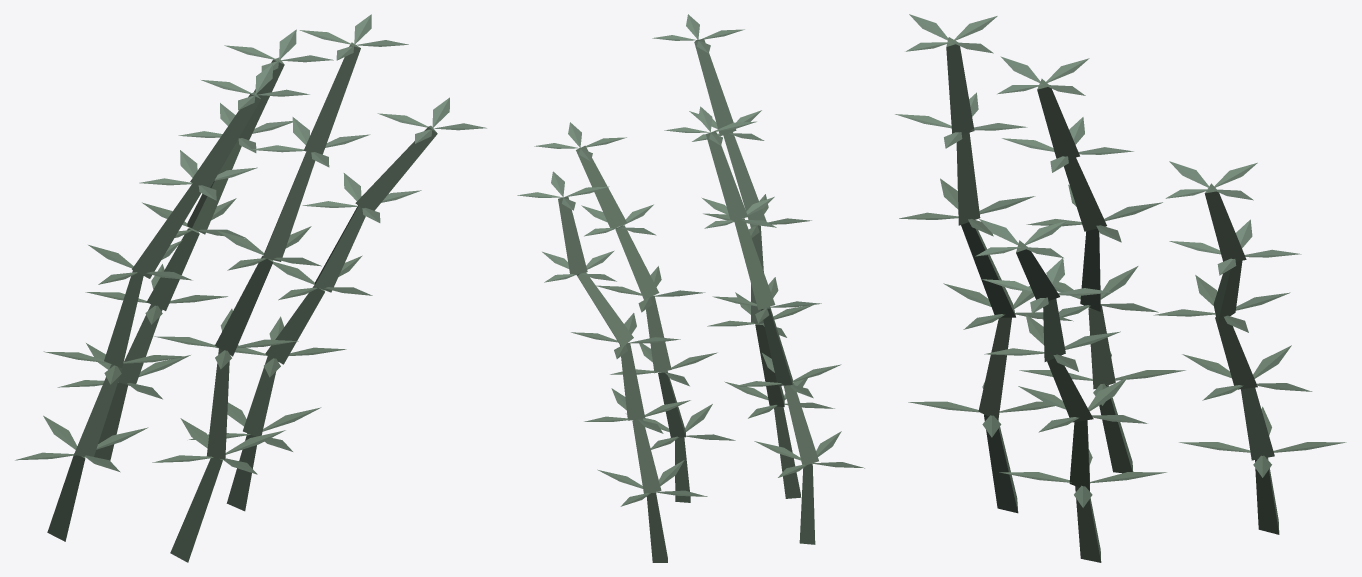
The model's file is shui.huwei__winter.glb.
3 views of the same model, side by side, from view 1: azimuth 30°, elevation 25°; view 2: azimuth 150°, elevation 25°; view 3: azimuth 270°, elevation 25° (orthographic). The views are drawn at different scales.
Visible parts, largest first — view 1: shui.huwei__winter; view 2: shui.huwei__winter; view 3: shui.huwei__winter.
Boxes of the visible parts, box(x1,y1,x2,y2) form: shui.huwei__winter: box(15, 14, 486, 562); shui.huwei__winter: box(517, 14, 864, 562); shui.huwei__winter: box(895, 14, 1346, 562).
Size of the model in its own units: 0.7743 by 0.896 by 0.6663.
